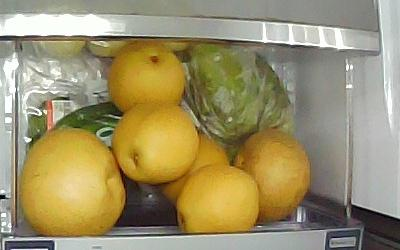pear: (21, 127, 125, 236), (114, 99, 200, 184), (230, 130, 310, 221), (175, 164, 259, 234), (108, 40, 185, 111), (162, 133, 231, 199)
